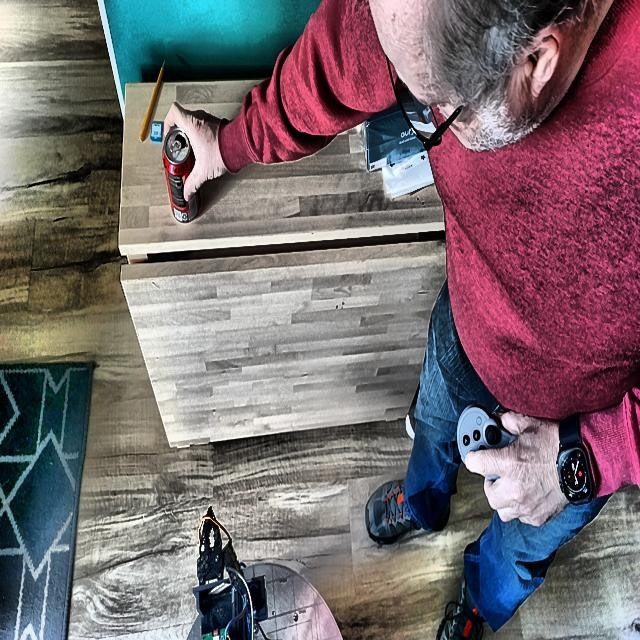Can: (163, 127, 200, 222)
